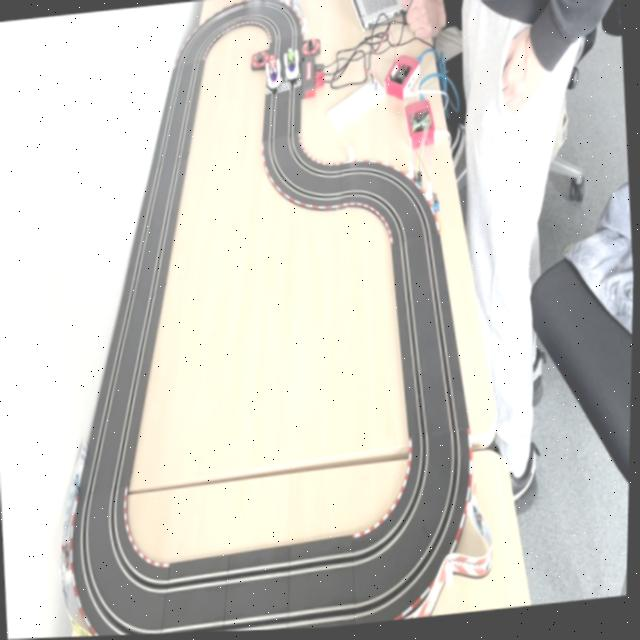mario: (264, 54, 284, 93)
yoshi: (283, 49, 302, 83)
